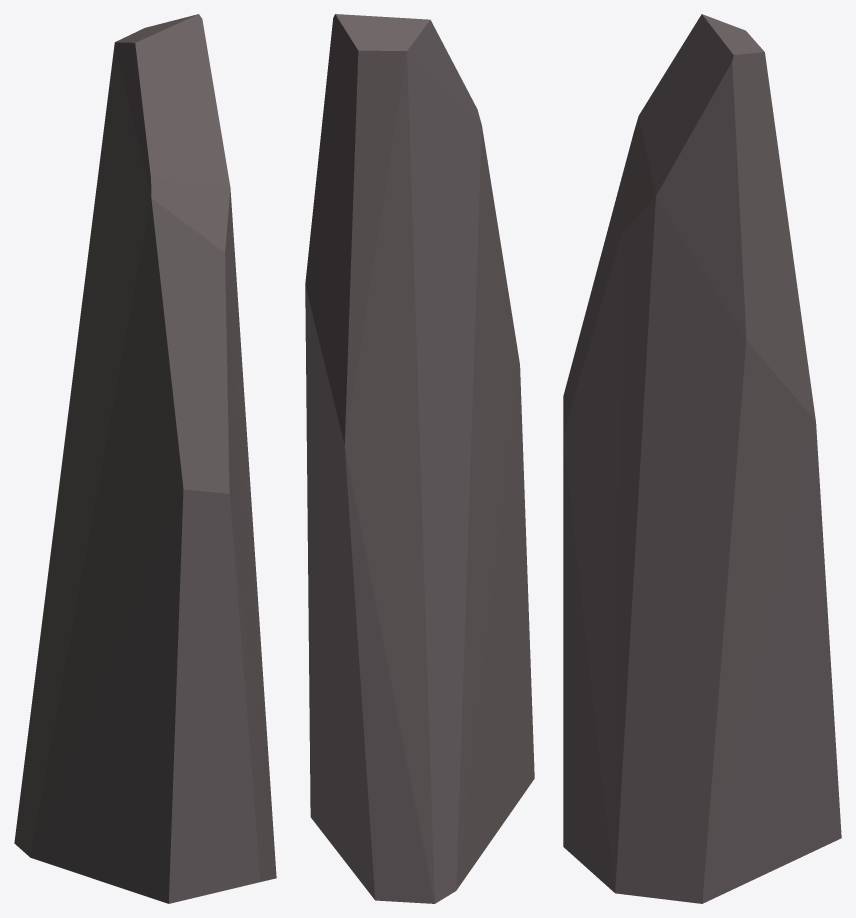
File: Rock_Sharp_m_04.fbx
3 renders of one model, left to right at view 1: azimuth 30°, elevation 25°; view 2: azimuth 150°, elevation 25°; view 3: azimuth 270°, elevation 25°, orthographic.
Visible parts, largest first — view 1: Rock_Sharp_m_04; view 2: Rock_Sharp_m_04; view 3: Rock_Sharp_m_04.
Part boxes in pixels (x1=…): Rock_Sharp_m_04: x1=14, y1=14, x2=276, y2=903; Rock_Sharp_m_04: x1=305, y1=14, x2=534, y2=903; Rock_Sharp_m_04: x1=563, y1=14, x2=841, y2=903.
Size of the model in its own units: 0.4814 by 2.06 by 0.6242.
